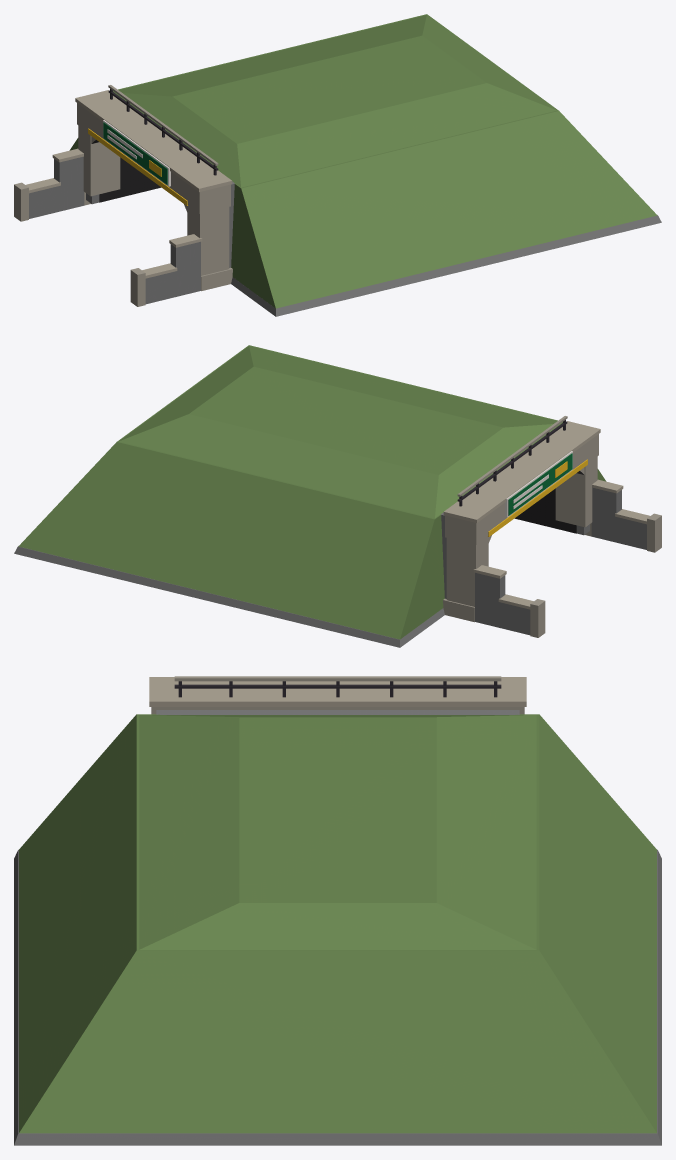
Rendered from landside_tunnel_portal.glb.
3 renders of one model, top to bottom at view 1: azimuth 30°, elevation 25°; view 2: azimuth 150°, elevation 25°; view 3: azimuth 270°, elevation 25°, orthographic. The views are drawn at different scales.
Parts seen in each view (by area): view 1: Portal_Berm, Portal_Structure, Portal_Interior; view 2: Portal_Berm, Portal_Structure, Portal_Interior; view 3: Portal_Berm, Portal_Structure.
Part boxes in pixels (x1,y1,x2,y2): Portal_Berm: (69,14,661,316); Portal_Structure: (14,85,234,306); Portal_Interior: (99,157,161,202); Portal_Berm: (14,345,606,647); Portal_Structure: (441,416,661,637); Portal_Interior: (514,488,576,533); Portal_Berm: (14,714,661,1145); Portal_Structure: (149,676,526,714).
Size of the model in its own units: 29.95 by 6.93 by 23.
1 material, 1 textured.
